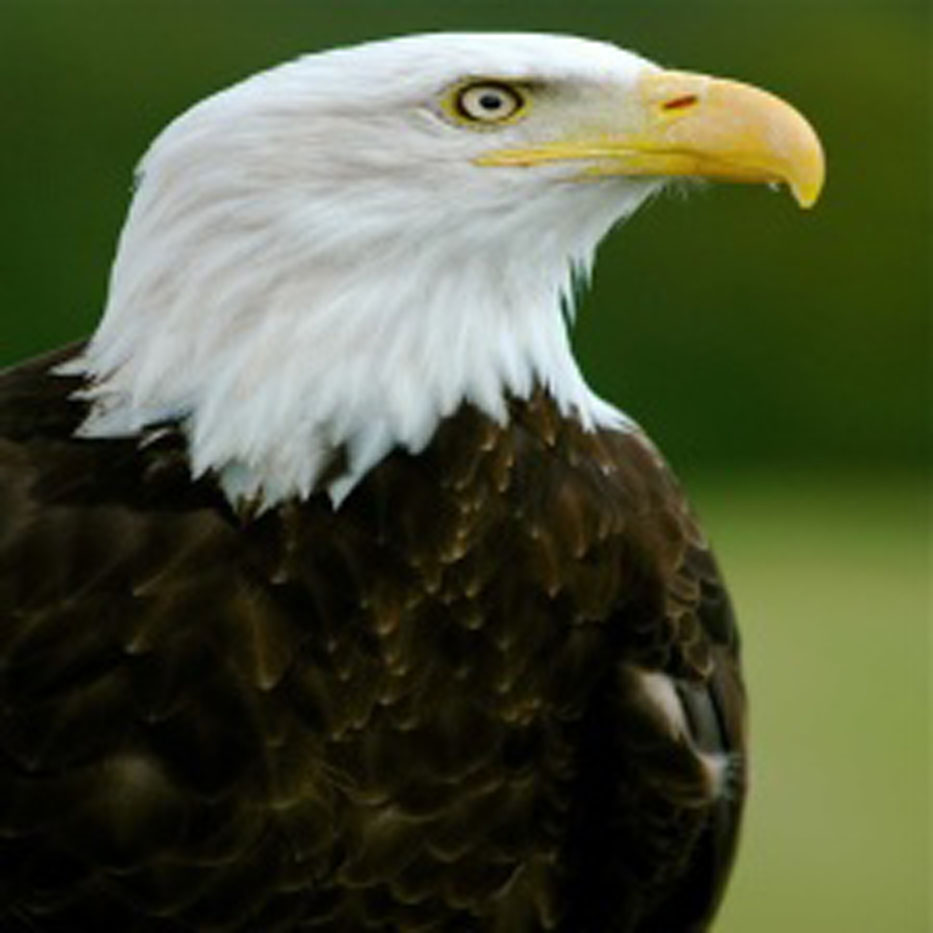Pengoyak Daging: (674, 66, 836, 234)
